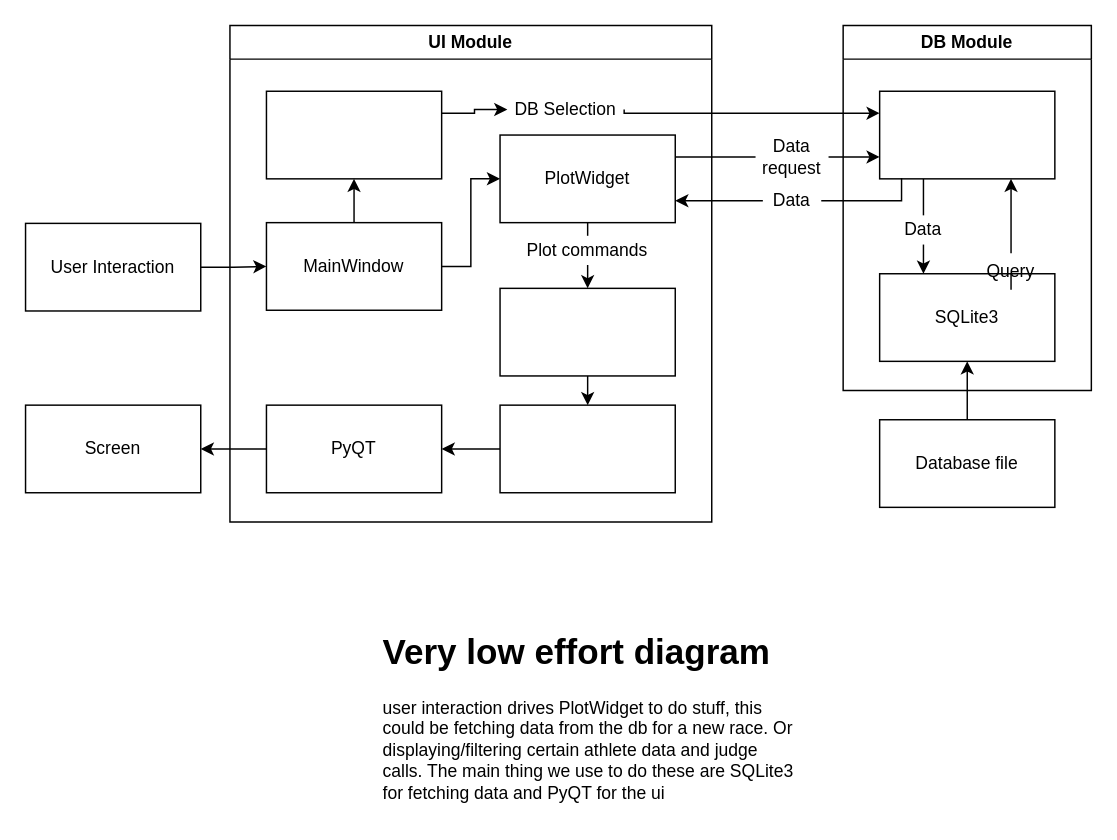
Some shapes in this 1117 by 840 pixel diagram are drawn without their labels. Here are the shapes that lost their labels. From the top down, the centre of each, then its label:
At [353,134]: "DB select".
At [966,134]: "DB".
At [587,331]: "LocGraph".
At [587,448]: "MatPlotLib".
